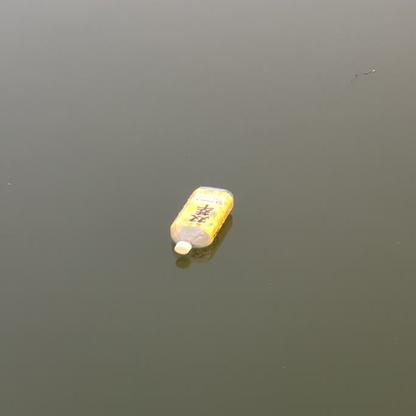plastic bottle: (171, 186, 234, 254)
